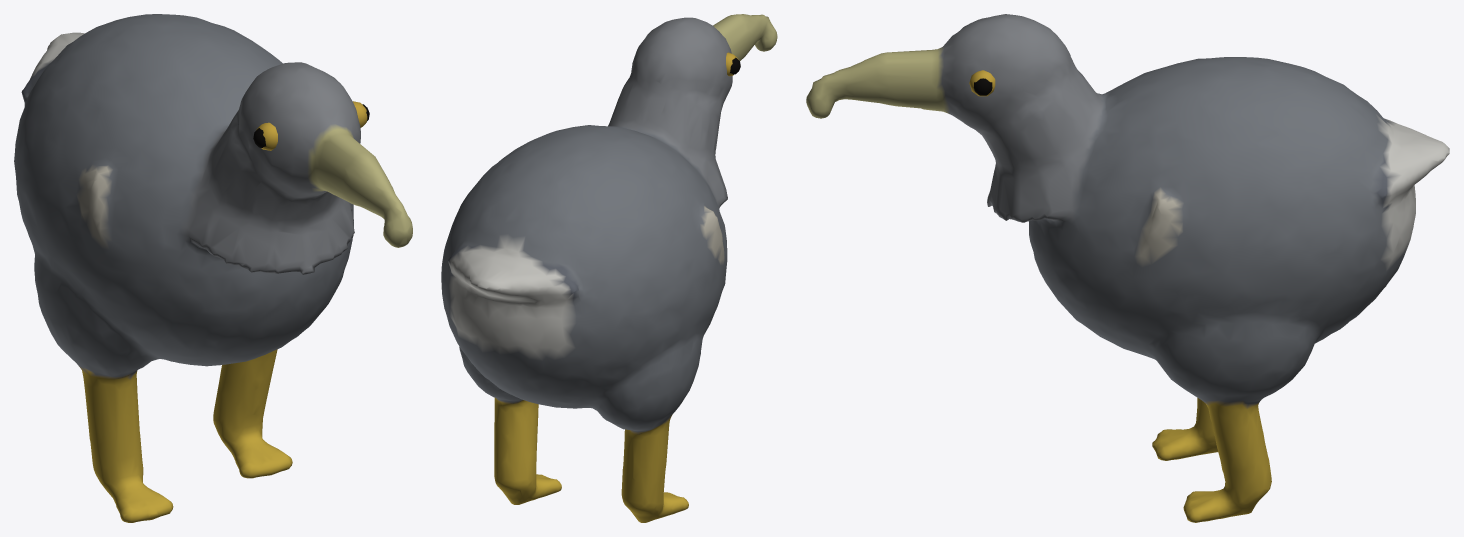
Rendered from RaphusCucullatus.fbx.
3 views of the same model, side by side, from view 1: azimuth 30°, elevation 25°; view 2: azimuth 150°, elevation 25°; view 3: azimuth 270°, elevation 25° (orthographic). The views are drawn at different scales.
Parts seen in each view (by area): view 1: RaphusCucullatus; view 2: RaphusCucullatus; view 3: RaphusCucullatus.
Boxes of the visible parts, box(x1,y1,x2,y2) form: RaphusCucullatus: box(14, 14, 412, 522); RaphusCucullatus: box(441, 14, 777, 522); RaphusCucullatus: box(806, 14, 1449, 522).
Size of the model in its own units: 0.5989 by 1.05 by 1.32.
